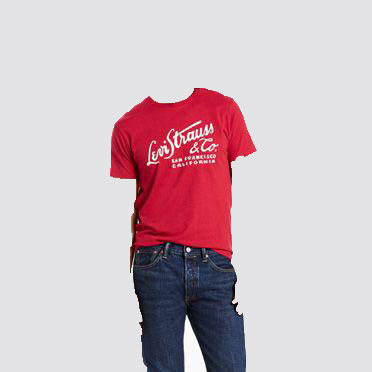teeshirt: (108, 86, 262, 264)
